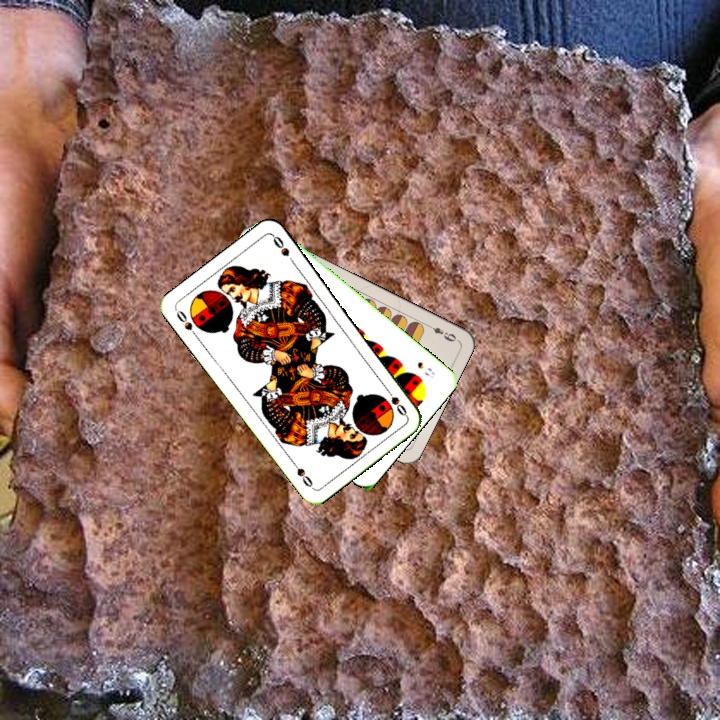E9: (422, 320, 459, 344)
S8: (413, 357, 438, 381)
SO: (381, 383, 410, 419), (172, 306, 201, 341)
